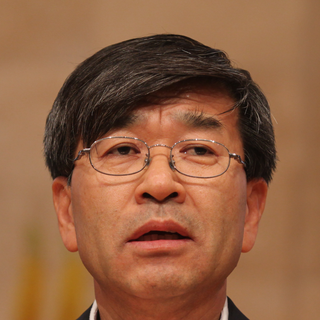eye: (179, 139, 223, 163), (100, 139, 144, 162)
